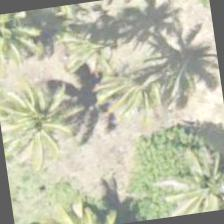Kelapa_Sawit: (0, 71, 88, 172), (156, 139, 223, 217), (0, 9, 48, 78)
